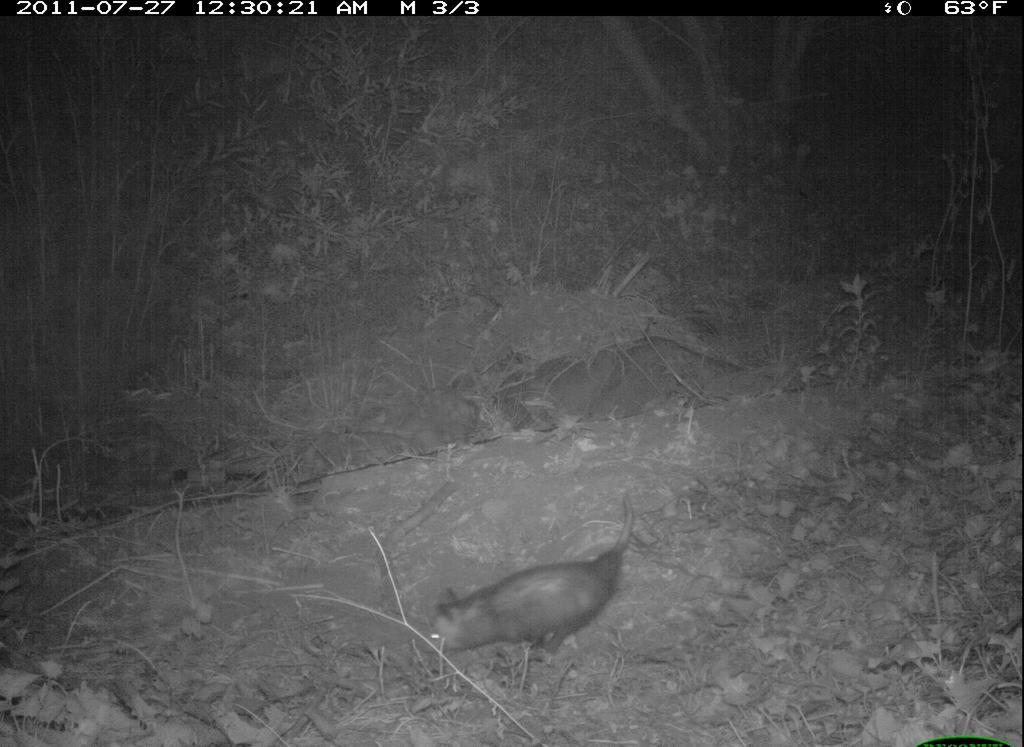opossum: (424, 493, 653, 671)
